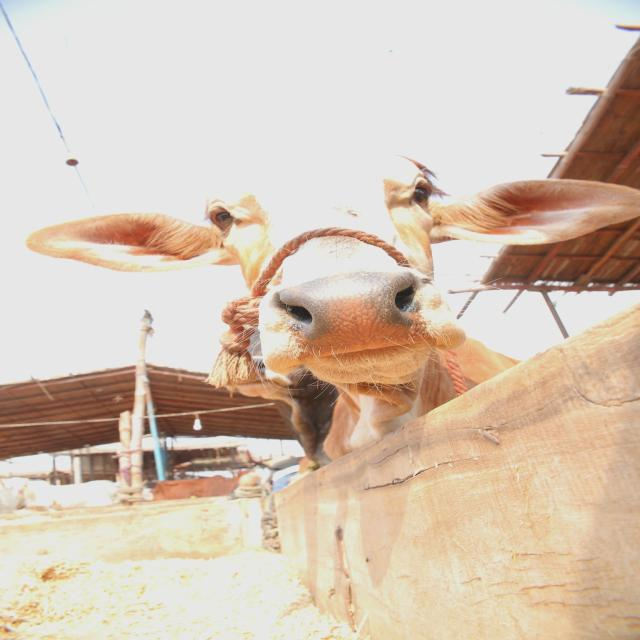muzzles: (248, 267, 444, 358)
